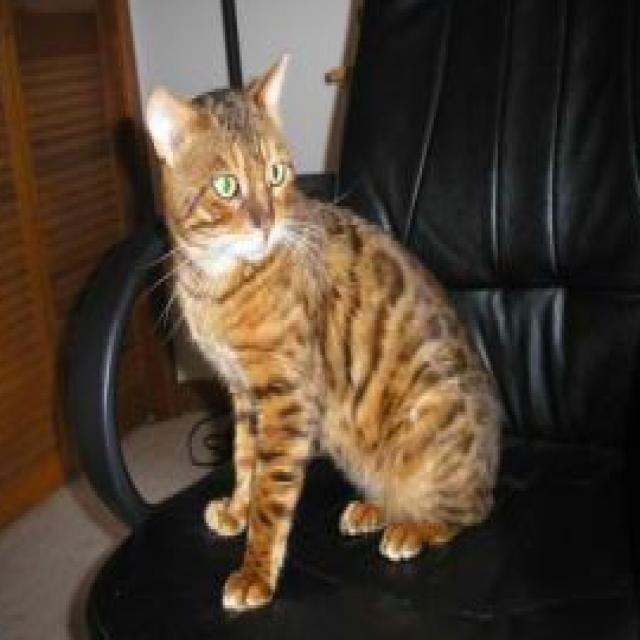Bengal: (142, 42, 512, 620)
